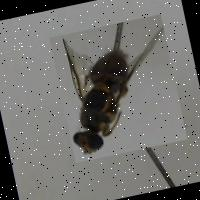Oriental-fruit-fly: (49, 12, 186, 161)
